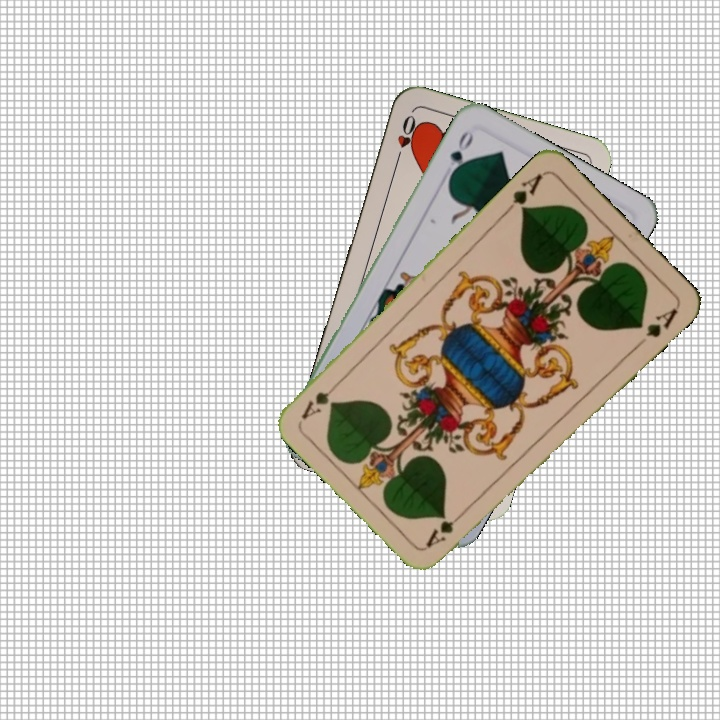GA: (421, 504, 470, 550), (501, 169, 546, 216)
GO: (445, 127, 477, 181)
HO: (391, 110, 421, 167)
